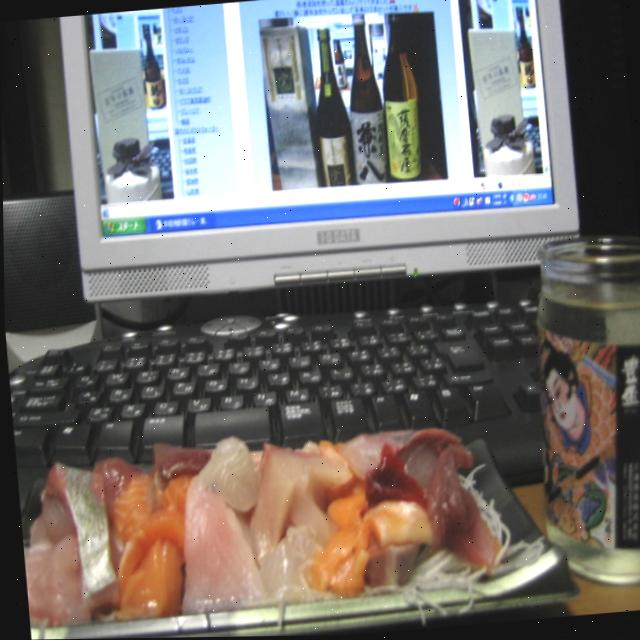刺身生食: (10, 380, 538, 640)
